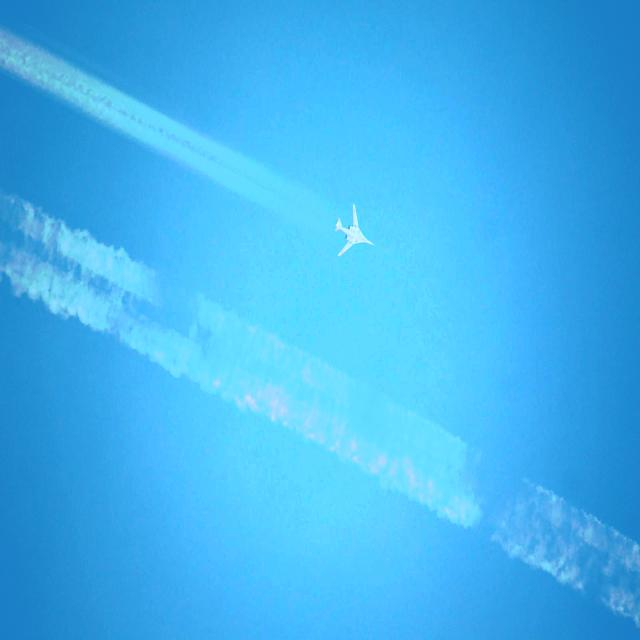Aircraft: (334, 203, 374, 259)
